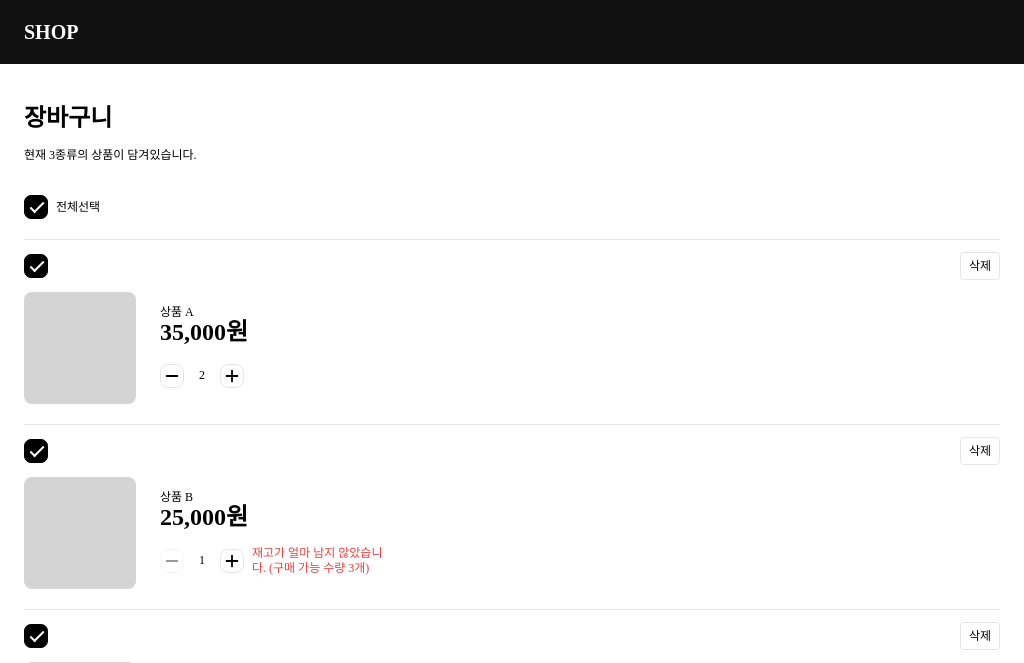
전체선택/해제 › 전체선택 해제 시 모든 상품이 해제된다
Click the checkbox labelled "전체선택" at (36, 207), box top-left (24, 195), bottom-right (48, 219)
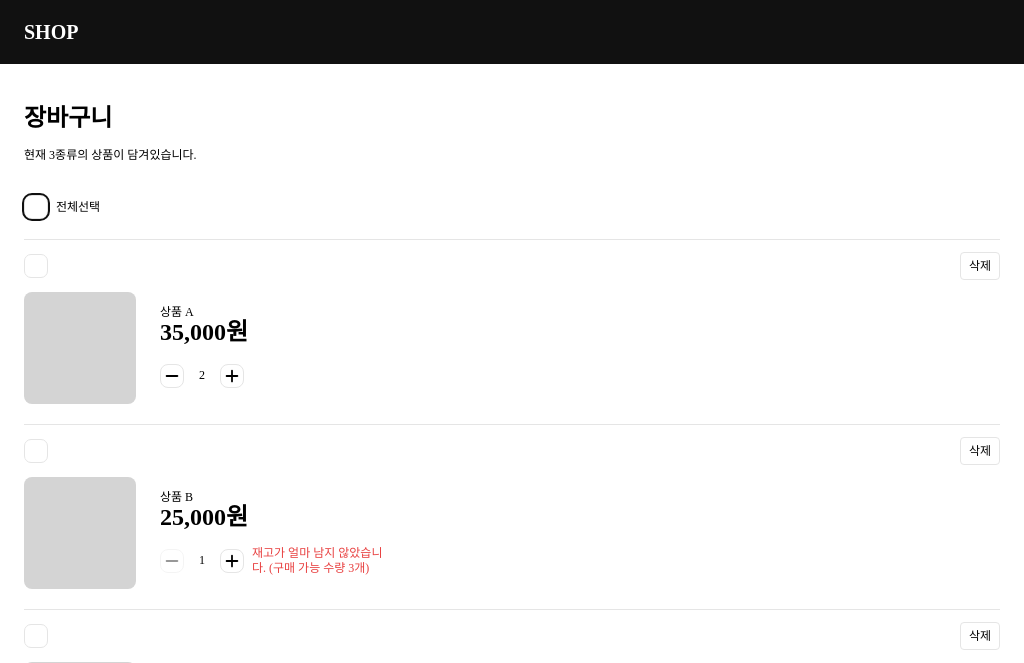
Check: the 2nd checkbox is not checked, box top-left (24, 254), bottom-right (48, 278)
Check: the 3rd checkbox is not checked, box top-left (24, 439), bottom-right (48, 463)
Check: the 4th checkbox is not checked, box top-left (24, 624), bottom-right (48, 648)
